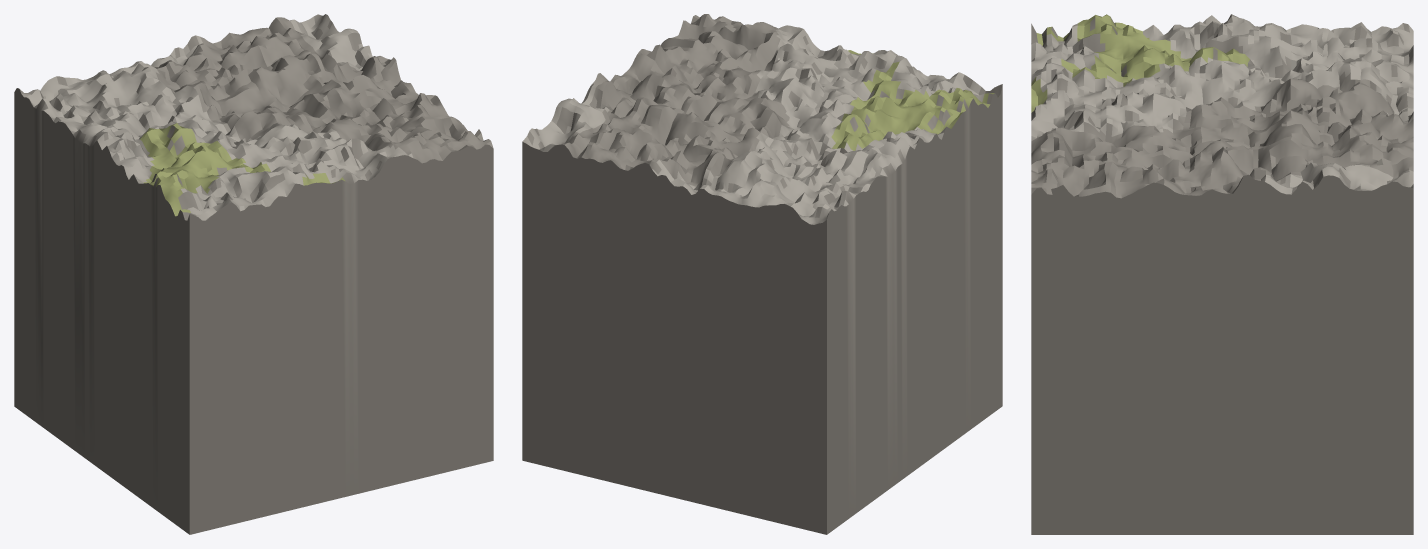
The model's file is kit-cliff-hi.glb.
3 renders of one model, left to right at view 1: azimuth 30°, elevation 25°; view 2: azimuth 150°, elevation 25°; view 3: azimuth 270°, elevation 25°, orthographic. The views are drawn at different scales.
Visible parts, largest first — view 1: cliff.001; view 2: cliff.001; view 3: cliff.001.
Boxes of the visible parts, <box> form: cliff.001: <box>14,14,493,534</box>; cliff.001: <box>522,14,1002,534</box>; cliff.001: <box>1031,14,1413,534</box>.
Size of the model in its own units: 1 by 1.06 by 1.
